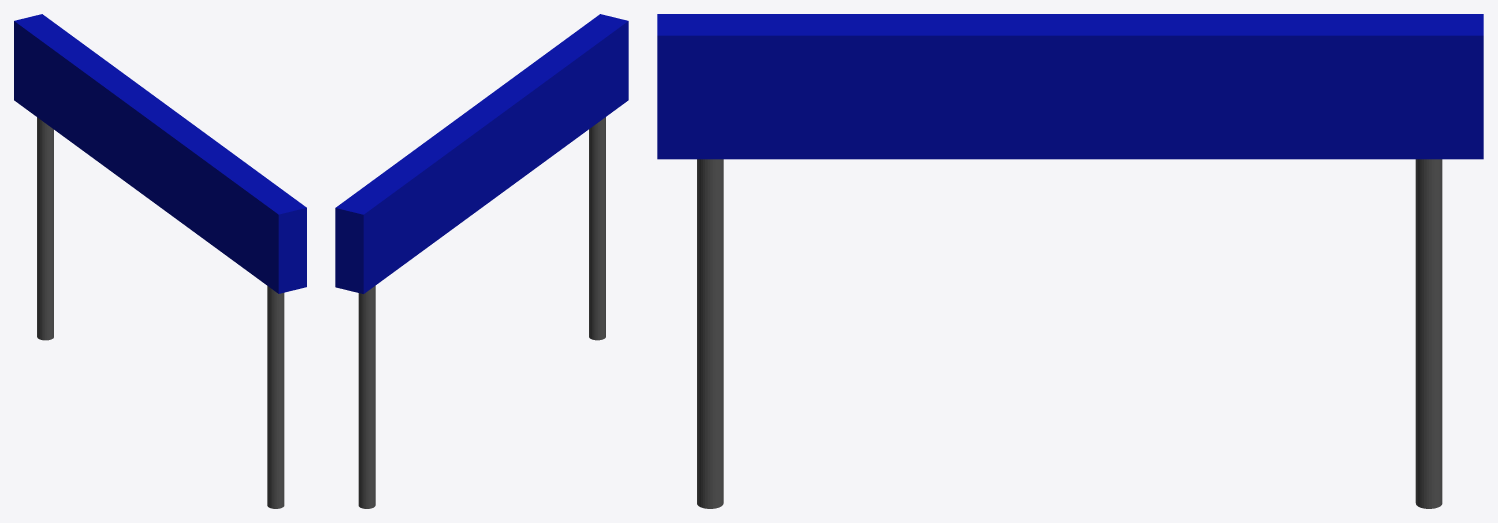
The model's file is checkpoint.glb.
3 renders of one model, left to right at view 1: azimuth 30°, elevation 25°; view 2: azimuth 150°, elevation 25°; view 3: azimuth 270°, elevation 25°, orthographic. The views are drawn at different scales.
Visible parts, largest first — view 1: Cube; view 2: Cube; view 3: Cube.
Boxes of the visible parts, bbox=[...] form: Cube: bbox=[14, 14, 306, 508]; Cube: bbox=[335, 14, 628, 508]; Cube: bbox=[657, 14, 1483, 508].
Size of the model in its own units: 0.0909 by 0.941 by 1.47.
Materials: 1 (1 with a texture image).
